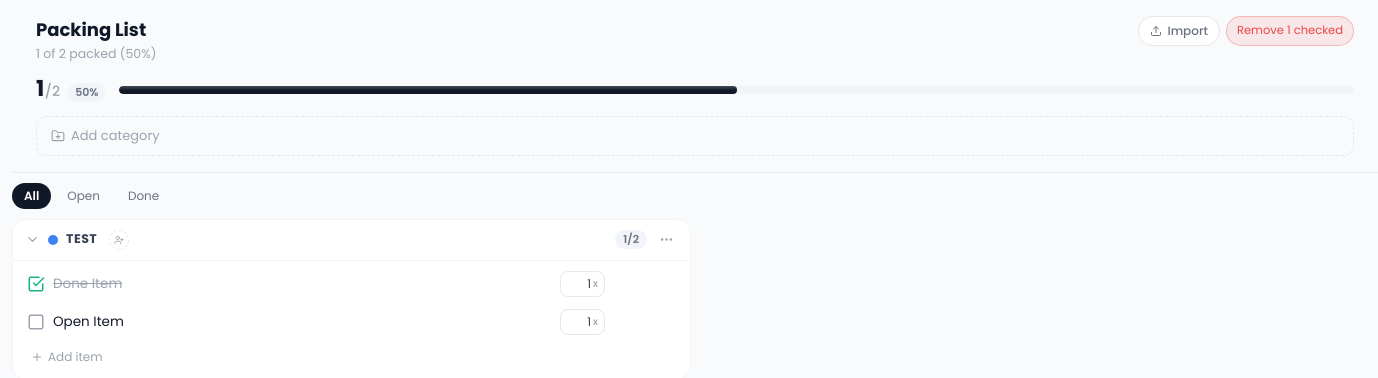
Scenario: PackingListPanel › FE-COMP-PACKING-018: filtering to Done hides unchecked items
Click the button "Done": (144, 196) [116,183,171,209]
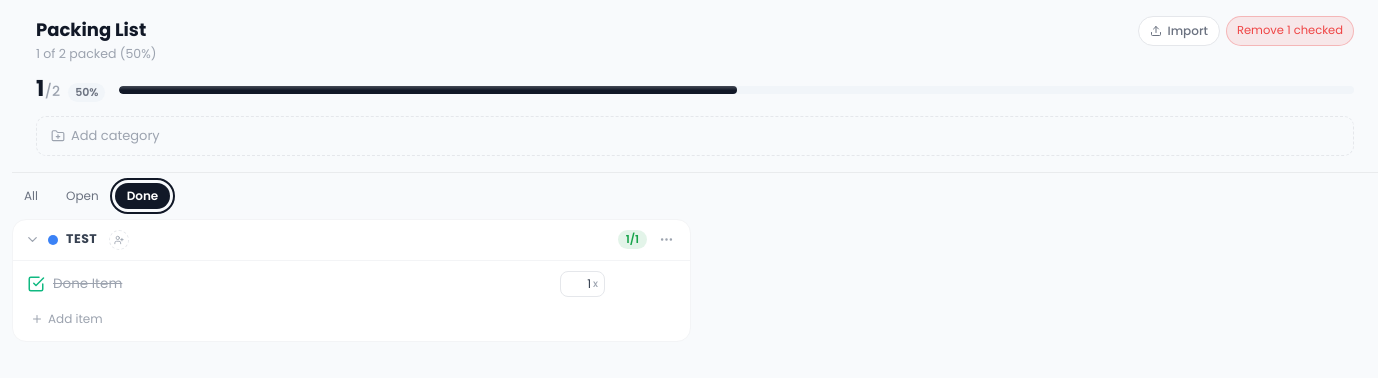
Expected: the text "Done Item" is shown, [53,274,122,292]
Expected: the text "Open Item" is gone
